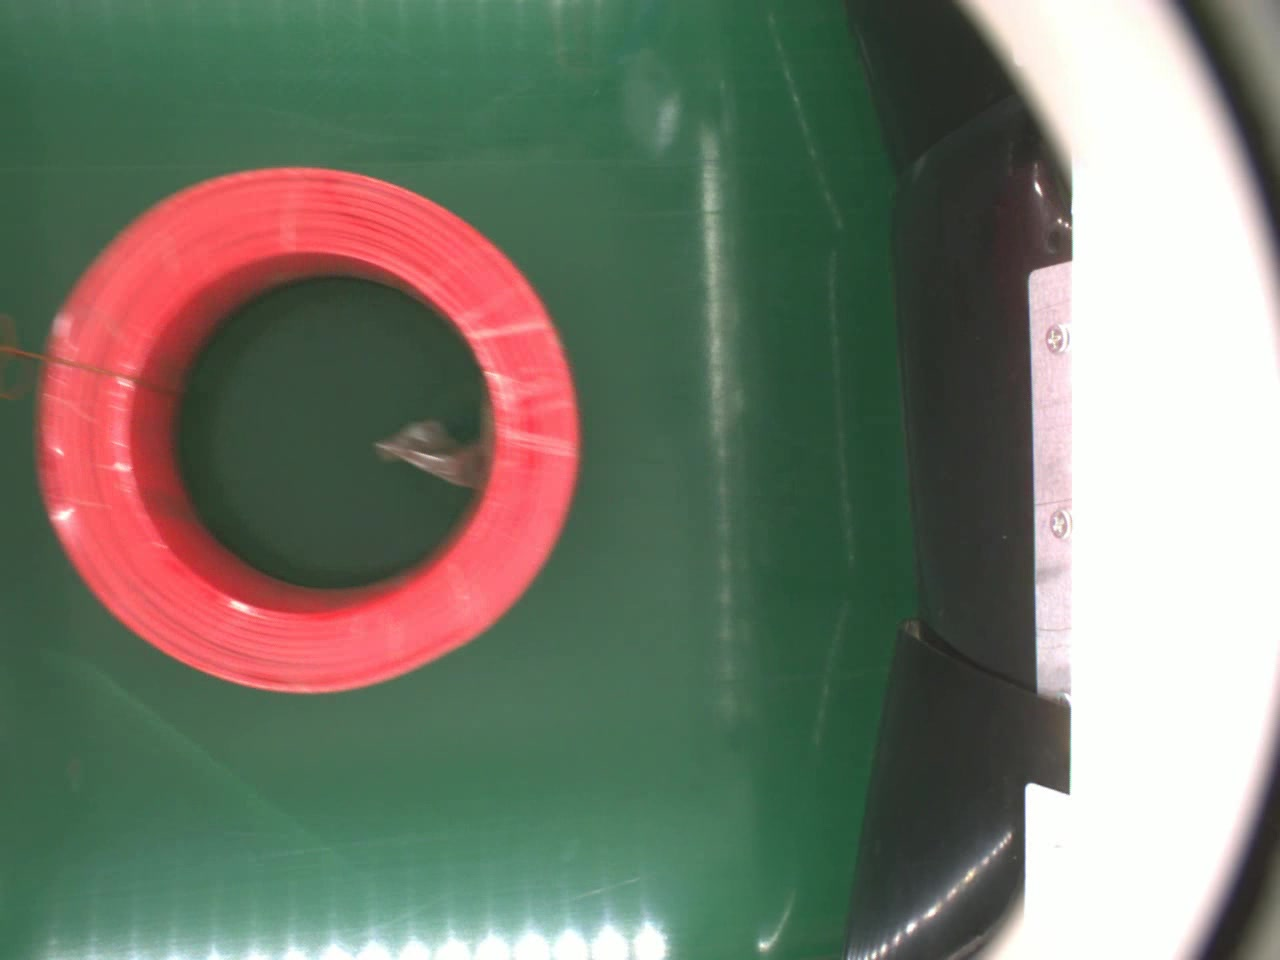red: (37, 164, 583, 699)
